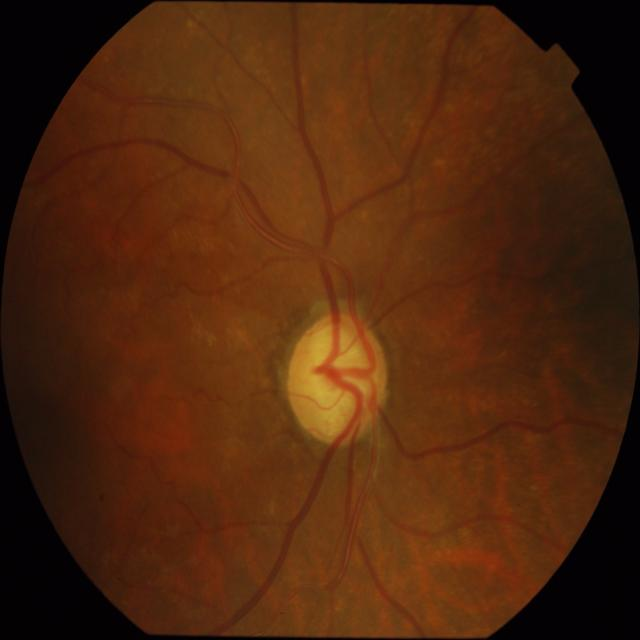OC: (309, 326, 378, 437)
OD: (286, 312, 389, 445)
